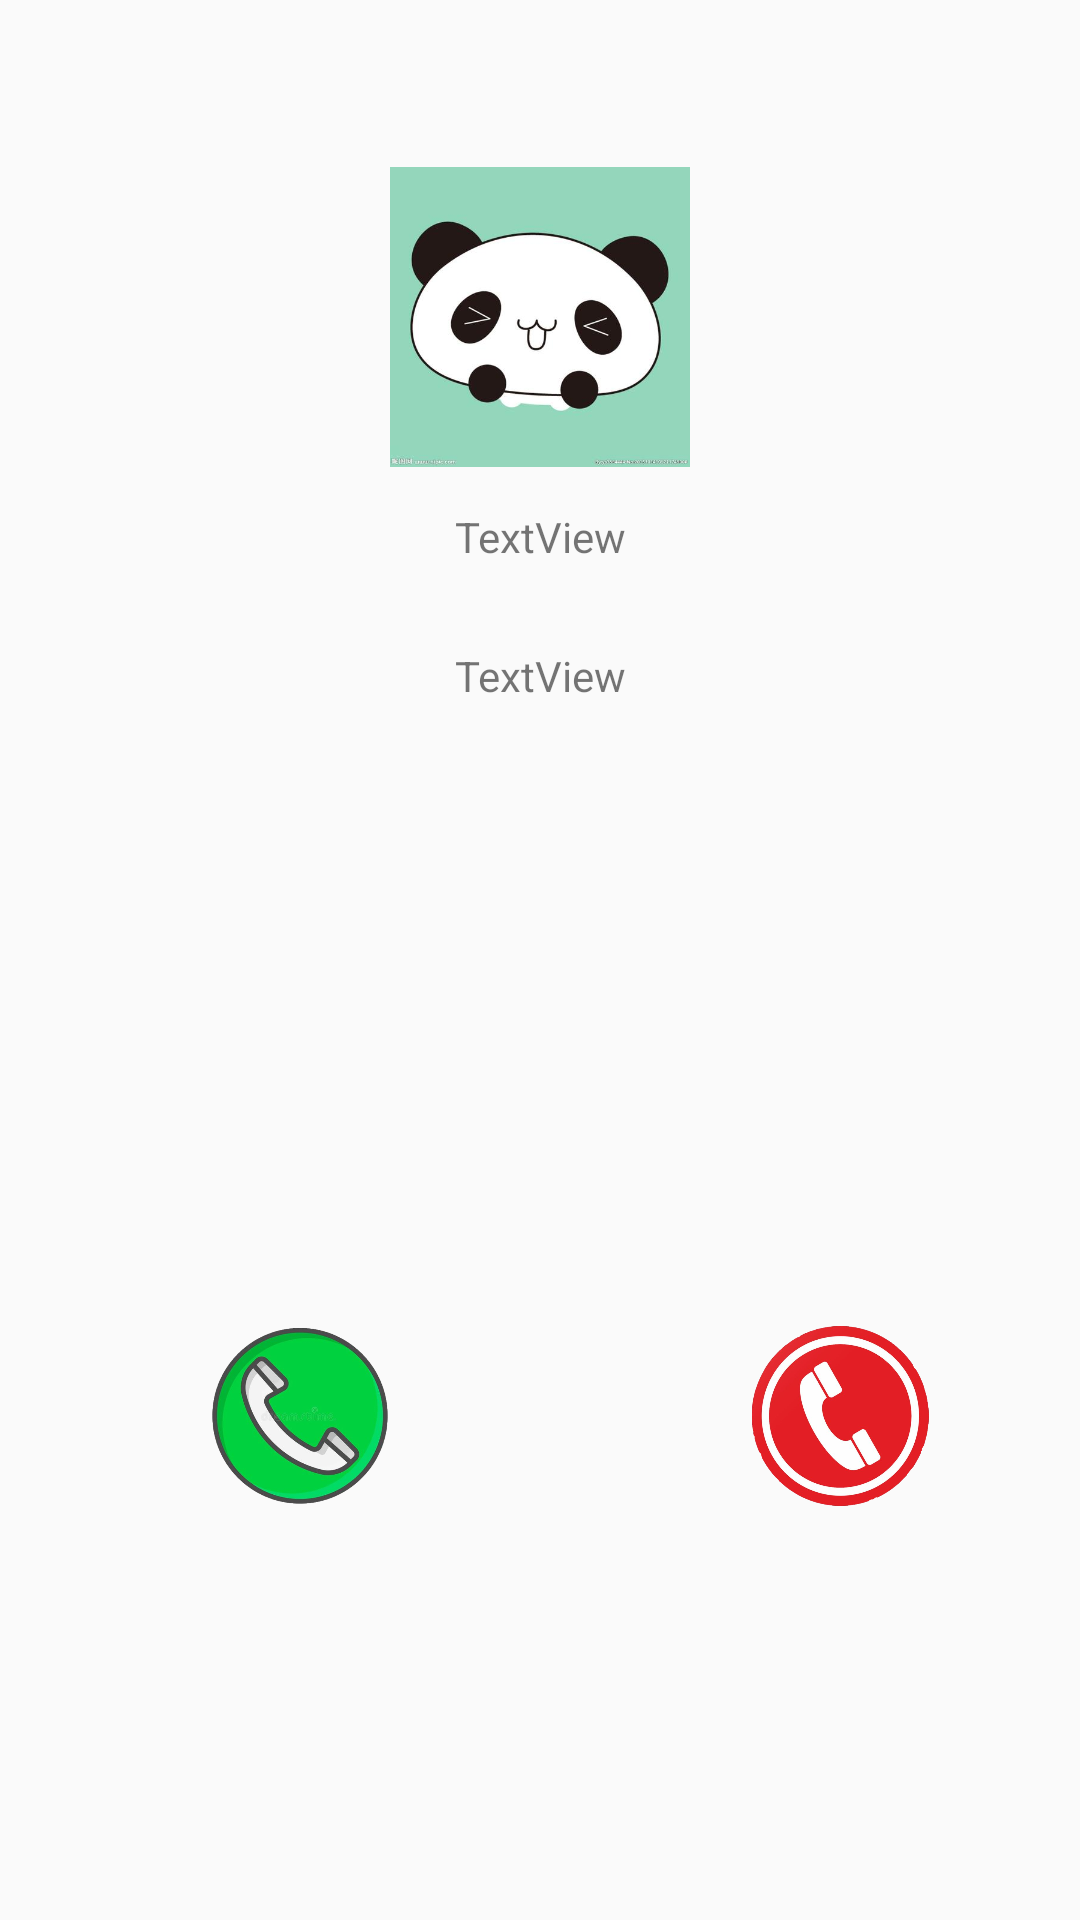

Named icons in this screenshot (1080px×1920px) and their bounding boxes, [x1,y1,x2,y2]:
answer: [212,1328,388,1504]
